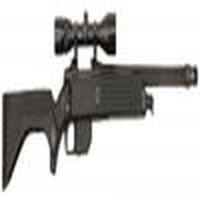gun: (2, 13, 199, 192)
